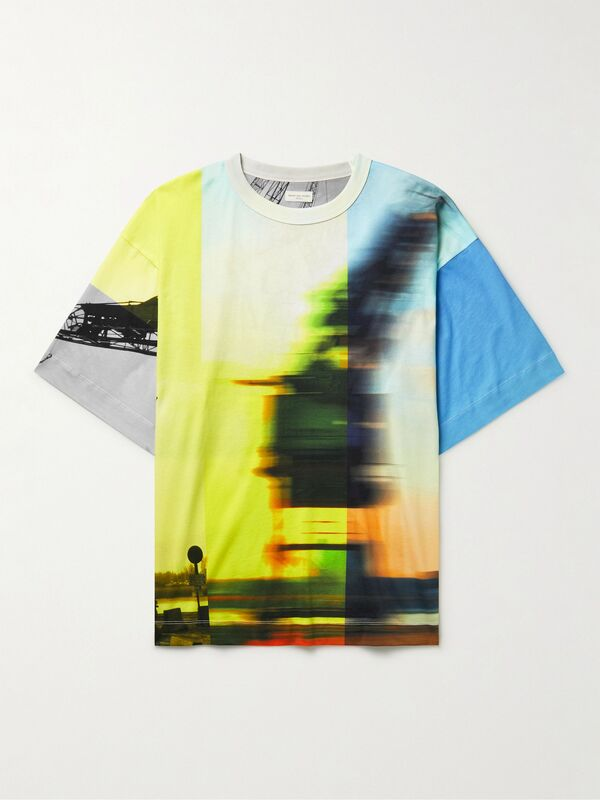tshirt: (31, 148, 568, 652)
